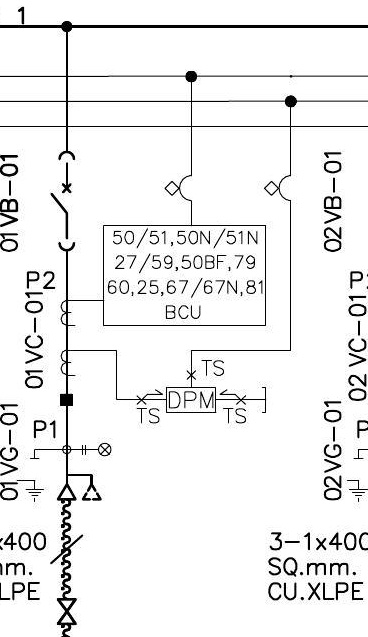22_breaker: (49, 150, 77, 253)
22_gs: (16, 456, 46, 502)
22_ll: (81, 442, 112, 457)
DPM: (164, 386, 218, 414)
terminator_splicing_kits: (56, 597, 77, 625)
terminator_w_future: (56, 472, 103, 502)
